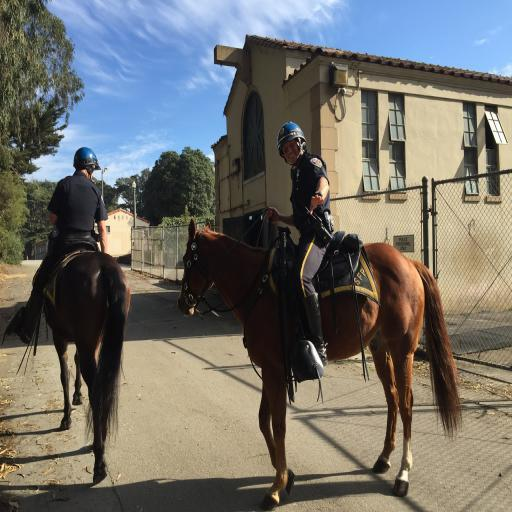horse: (174, 215, 464, 511), (40, 230, 132, 482)
